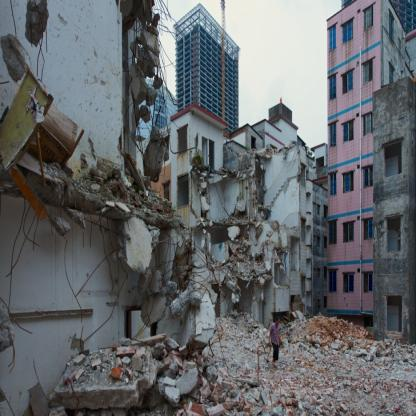rebar: (133, 0, 177, 146), (151, 221, 222, 305), (6, 173, 42, 337), (73, 209, 130, 297), (30, 3, 48, 85)
